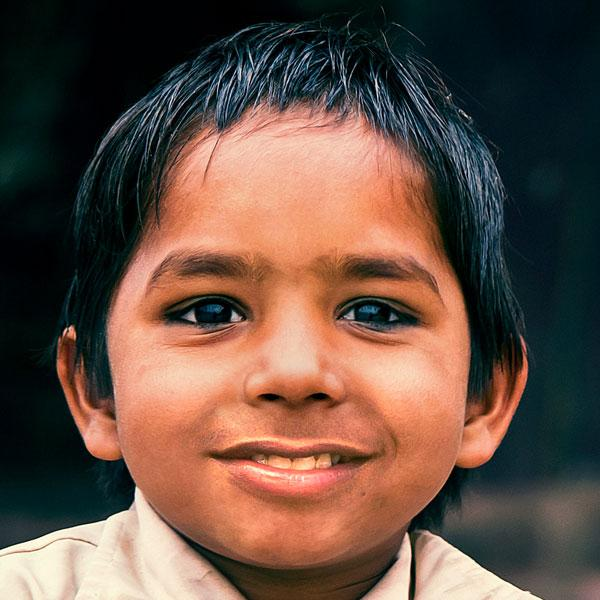Eyes: (152, 282, 255, 341), (331, 288, 428, 340)
